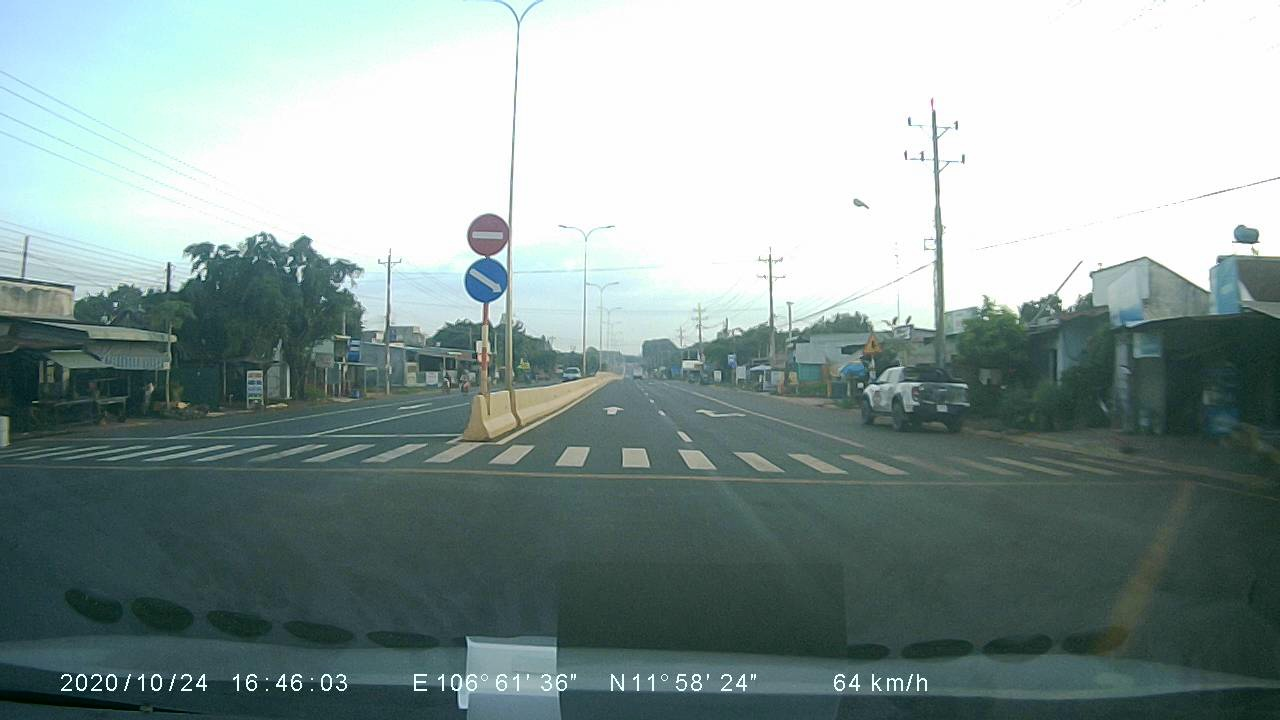Cam di nguoc chieu: (461, 208, 511, 257)
Huong di phai re phai: (458, 255, 516, 302)
